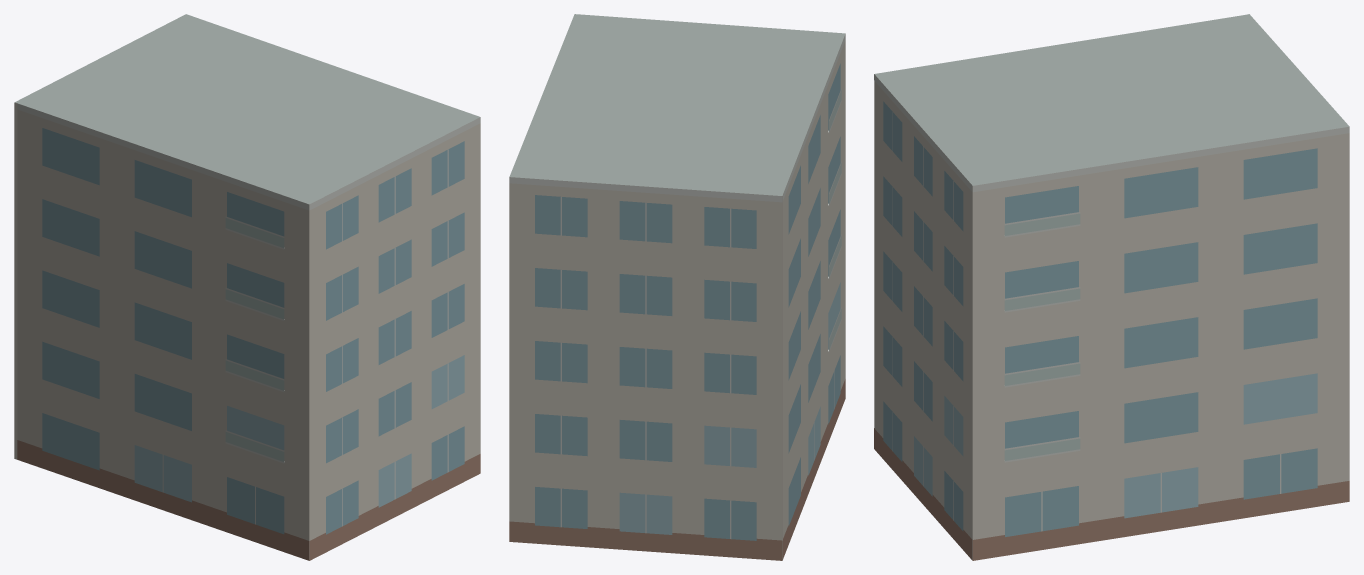
Rendered from survey-upis-33010714.glb.
3 renders of one model, left to right at view 1: azimuth 30°, elevation 25°; view 2: azimuth 150°, elevation 25°; view 3: azimuth 270°, elevation 25°, orthographic. The views are drawn at different scales.
Parts seen in each view (by area): view 1: survey-upis-33010714.tmp; view 2: survey-upis-33010714.tmp; view 3: survey-upis-33010714.tmp.
Part boxes in pixels (x1,y1,x2,y2): survey-upis-33010714.tmp: [14, 14, 480, 560]; survey-upis-33010714.tmp: [509, 14, 845, 560]; survey-upis-33010714.tmp: [874, 14, 1349, 560].
Bounding box in the file's own units: 13.98 × 14.21 × 16.34.
